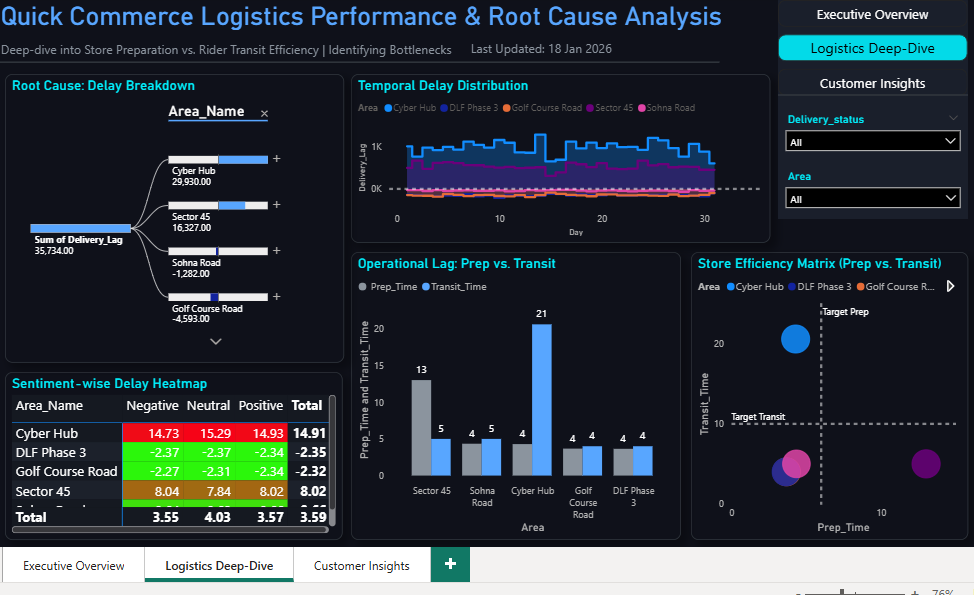

Layout of this report page (visuals, bound fields, positions):
{"tool":"powerbi","page":{"name":"Logistics Deep-Dive","canvas":[1280,720],"ordinal":1},"visuals":[{"type":"textbox","box":[0,0,966.2,51.8],"z":0},{"type":"textbox","box":[0,51.8,617.8,33.1],"z":1000},{"type":"shape","box":[0,68.9,945.7,31.9],"z":2000},{"type":"card","fields":{"Values":["Measure.Last Updated"]},"box":[600.5,49,223.2,41.8],"z":3000},{"type":"scatterChart","title":"Store Efficiency Matrix (Prep vs. Transit)","fields":{"X":["Avg(major_quick_commerece_db fact_orders.Prep_Time)"],"Y":["Avg(major_quick_commerece_db fact_orders.Transit_Time)"],"Size":["CountNonNull(major_quick_commerece_db fact_orders.OrderID)"],"Series":["major_quick_commerece_db dim_areas.Area_Name"]},"box":[908.5,333.8,362.6,377],"z":4000},{"type":"clusteredColumnChart","title":"Operational Lag: Prep vs. Transit","fields":{"Category":["major_quick_commerece_db dim_areas.Area_Name"],"Y":["Avg(major_quick_commerece_db fact_orders.Prep_Time)","Avg(major_quick_commerece_db fact_orders.Transit_Time)"]},"box":[463.4,333.8,432,377],"z":5000},{"type":"pivotTable","title":"Sentiment-wise Delay Heatmap","fields":{"Rows":["major_quick_commerece_db dim_areas.Area_Name"],"Columns":["major_quick_commerece_db fact_orders.sentiment"],"Values":["Avg(major_quick_commerece_db fact_orders.Delivery_Lag)"]},"box":[10.5,490.9,442.5,219.9],"z":6000},{"type":"areaChart","title":"Temporal Delay Distribution","fields":{"Series":["major_quick_commerece_db dim_areas.Area_Name"],"Category":["major_quick_commerece_db fact_orders.OrderDate.Variation.Date Hierarchy.Day"],"Y":["Sum(major_quick_commerece_db fact_orders.Delivery_Lag)"]},"box":[463.4,100.8,548.5,221.2],"z":7000},{"type":"decompositionTreeVisual","title":"Root Cause: Delay Breakdown","fields":{"ExplainBy":["major_quick_commerece_db dim_areas.Area_Name","major_quick_commerece_db fact_orders.Prep_Time","major_quick_commerece_db fact_orders.Transit_Time","major_quick_commerece_db fact_orders.sentiment"],"Analyze":["Sum(major_quick_commerece_db fact_orders.Delivery_Lag)"]},"box":[10.5,100.8,443.8,378.3],"z":8000},{"type":"shape","box":[1022.4,3.9,248.7,286.7],"z":9000},{"type":"pageNavigator","box":[1022.4,3.9,248.7,125.7],"z":10000},{"type":"slicer","fields":{"Values":["major_quick_commerece_db dim_status.Delivery_Status"]},"box":[1022.4,146.6,248.7,62.8],"z":11000},{"type":"slicer","fields":{"Values":["major_quick_commerece_db dim_areas.Area_Name"]},"box":[1022.4,221.8,249.1,67.7],"z":12000},{"type":"shape","box":[1022.4,112.6,248.7,31.4],"z":13000}]}

Visuals, with their boxes on the page's 1280x720 design canvas (x1, y1, x2, y2). These are canvas units, not pixel positions in the 974x595 screenshot, which may show the page scaled, cropped or inside an application window:
textbox: pyautogui.locateOnScreen(0, 0, 966, 52)
textbox: pyautogui.locateOnScreen(0, 52, 618, 85)
shape: pyautogui.locateOnScreen(0, 69, 946, 101)
card - Measure.Last Updated: pyautogui.locateOnScreen(600, 49, 824, 91)
"Store Efficiency Matrix (Prep vs. Transit)" scatterChart: pyautogui.locateOnScreen(908, 334, 1271, 711)
"Operational Lag: Prep vs. Transit" clusteredColumnChart: pyautogui.locateOnScreen(463, 334, 895, 711)
"Sentiment-wise Delay Heatmap" pivotTable: pyautogui.locateOnScreen(10, 491, 453, 711)
"Temporal Delay Distribution" areaChart: pyautogui.locateOnScreen(463, 101, 1012, 322)
"Root Cause: Delay Breakdown" decompositionTreeVisual: pyautogui.locateOnScreen(10, 101, 454, 479)
shape: pyautogui.locateOnScreen(1022, 4, 1271, 291)
pageNavigator: pyautogui.locateOnScreen(1022, 4, 1271, 130)
slicer - major_quick_commerece_db dim_status.Delivery_Status: pyautogui.locateOnScreen(1022, 147, 1271, 209)
slicer - major_quick_commerece_db dim_areas.Area_Name: pyautogui.locateOnScreen(1022, 222, 1272, 290)
shape: pyautogui.locateOnScreen(1022, 113, 1271, 144)
